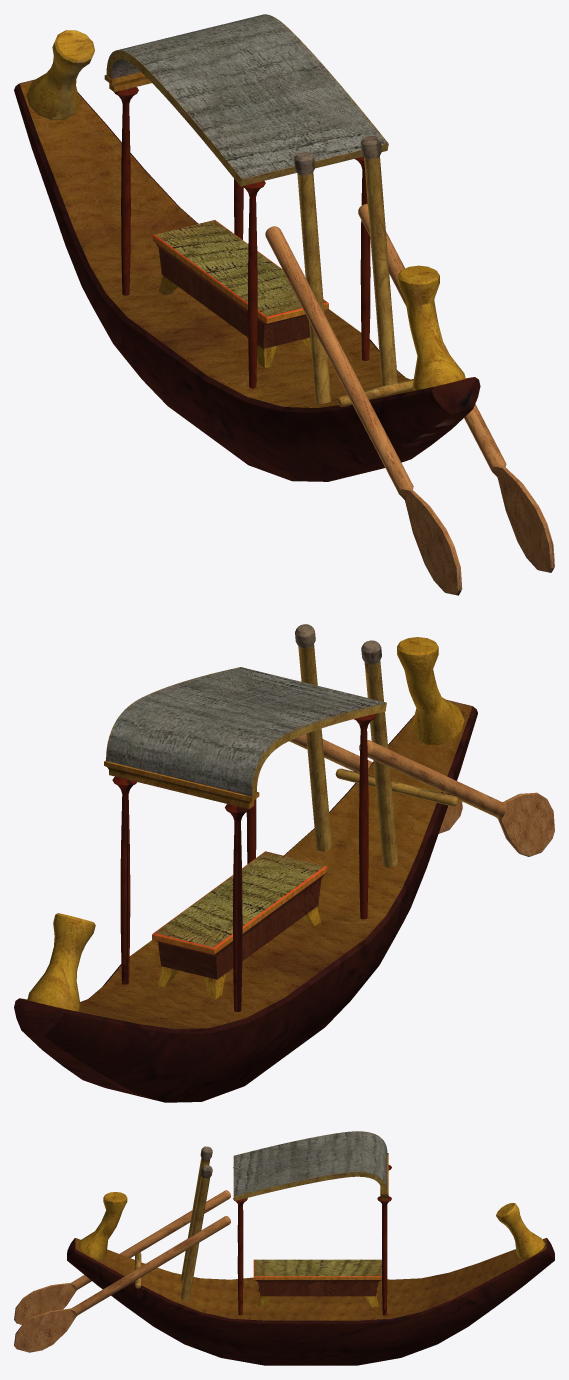
File: barco.glb
The picture shows the model from 3 angles, top to bottom: view 1: azimuth 30°, elevation 25°; view 2: azimuth 150°, elevation 25°; view 3: azimuth 270°, elevation 25°; orthographic projection. The views are drawn at different scales.
Visible parts, largest first — view 1: Object_4; view 2: Object_4; view 3: Object_4.
Boxes of the visible parts, bbox=[...] form: Object_4: bbox=[14, 14, 554, 595]; Object_4: bbox=[14, 624, 554, 1102]; Object_4: bbox=[14, 1131, 554, 1365].
Bounding box in the file's own units: 0.7918 × 1.63 × 3.93.
1 material, 1 textured.
